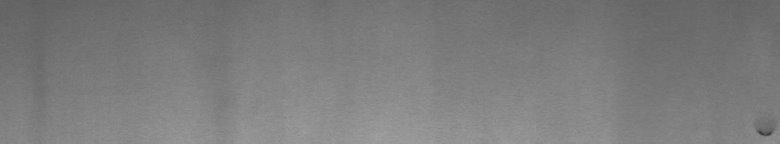fi: (752, 124, 776, 136)
